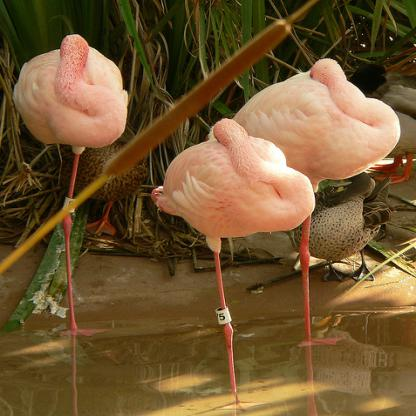bird: (209, 57, 400, 348), (152, 116, 315, 412), (14, 32, 126, 336), (292, 172, 389, 280), (61, 140, 149, 240), (349, 61, 415, 186)
